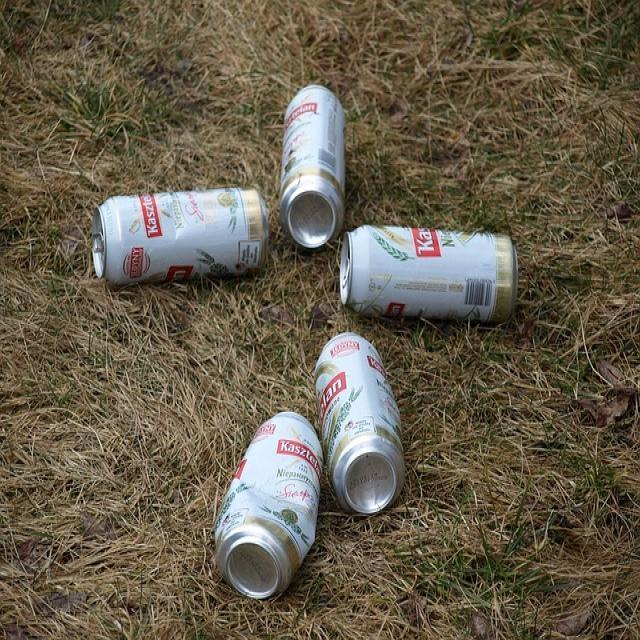can: (214, 412, 322, 604), (340, 224, 518, 325), (92, 186, 268, 284), (314, 332, 405, 516), (278, 84, 344, 254)
